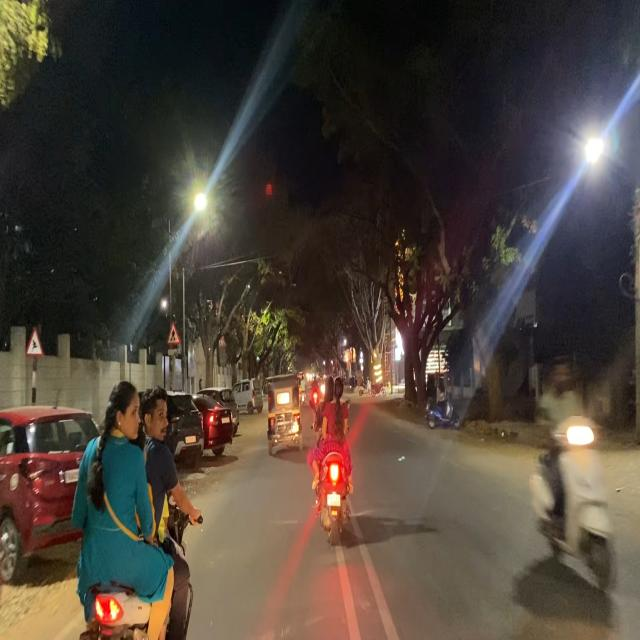bien_cam: (25, 327, 44, 358), (166, 319, 180, 346)
